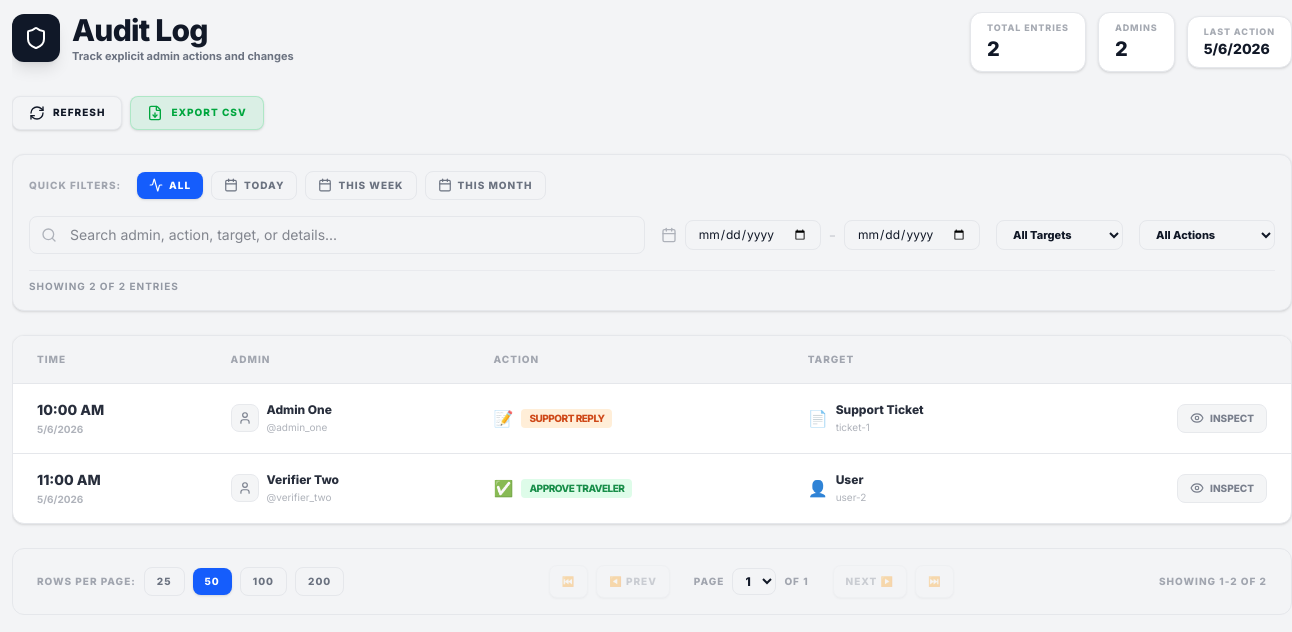
Test case: AuditLogPage › searches admin names and JSON details without issuing a PostgREST OR search
Expected: the text "Verifier Two" is shown, [267,472,339,488]
Type "Support answer" into the field with placeholder "Search admin, action, target, or details..." at {"x": 337, "y": 234}, box [29,216,645,254]
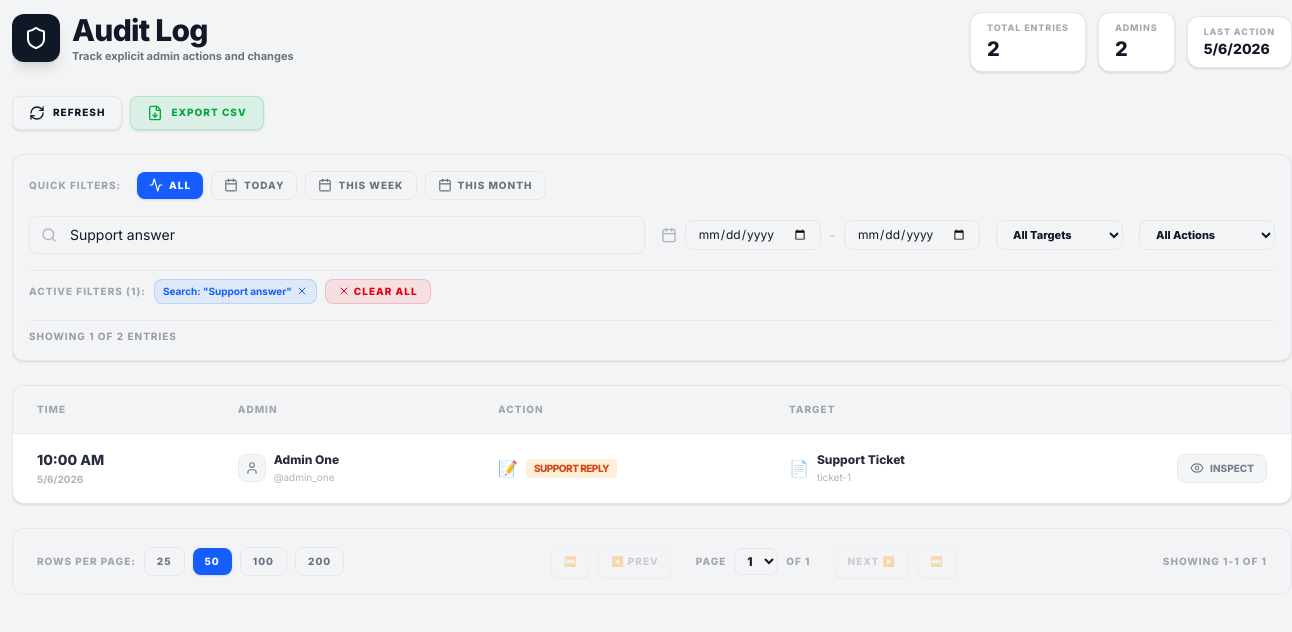
Now the text "user-2" is gone
